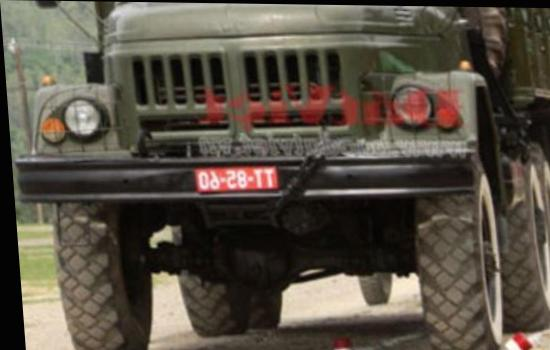License_Plate: (195, 164, 281, 200)
